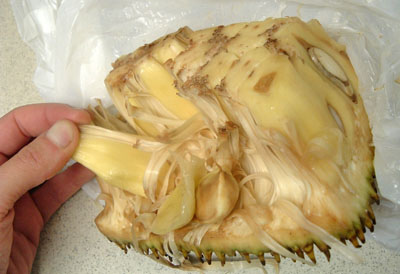jackfruit: (69, 14, 377, 264)
